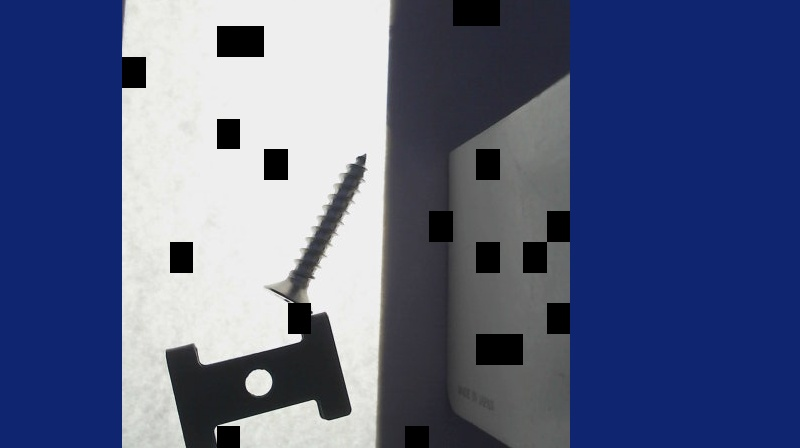O002: (162, 308, 350, 447)
S001: (262, 148, 368, 312)
